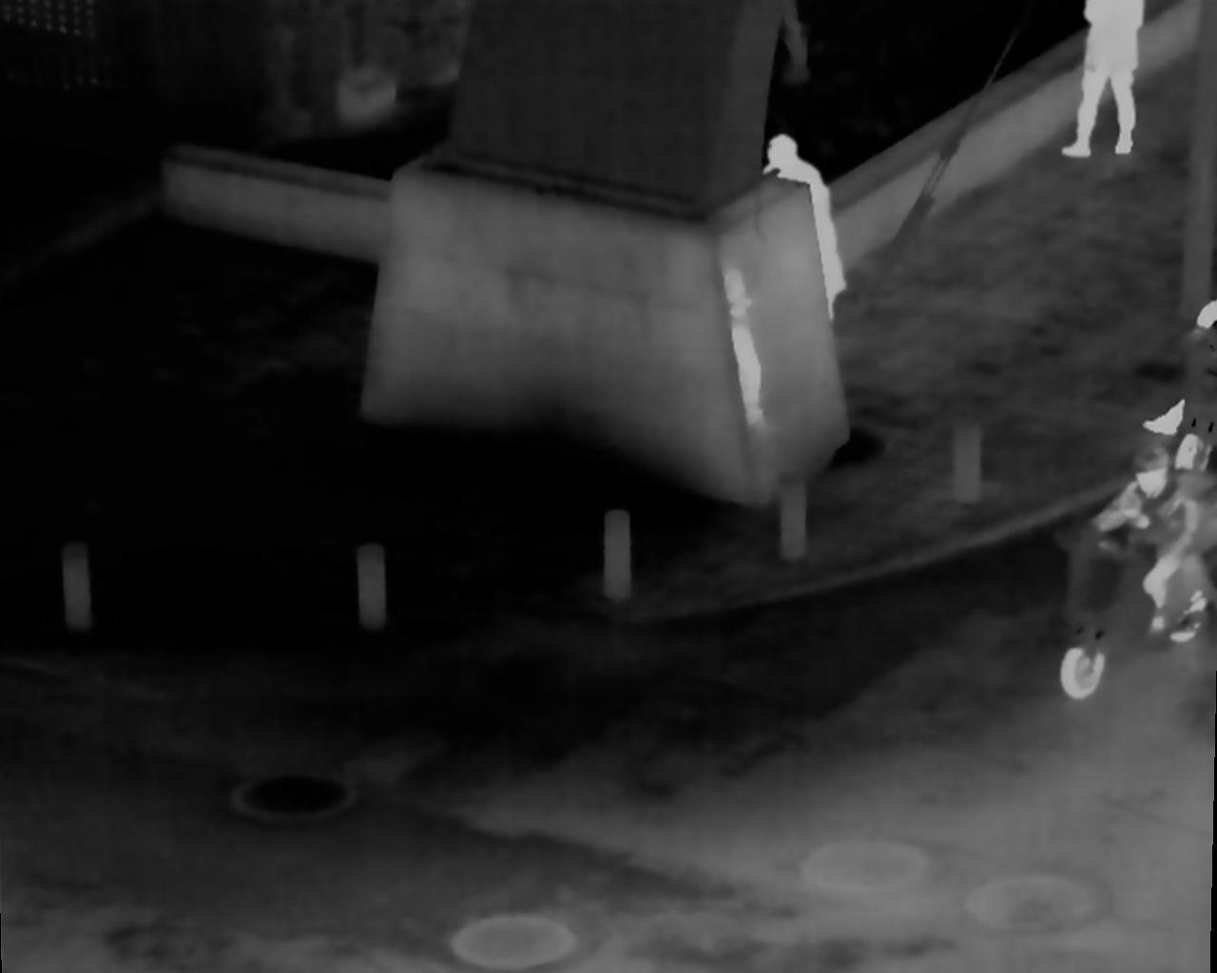person: (763, 134, 846, 335), (1111, 448, 1193, 634)
